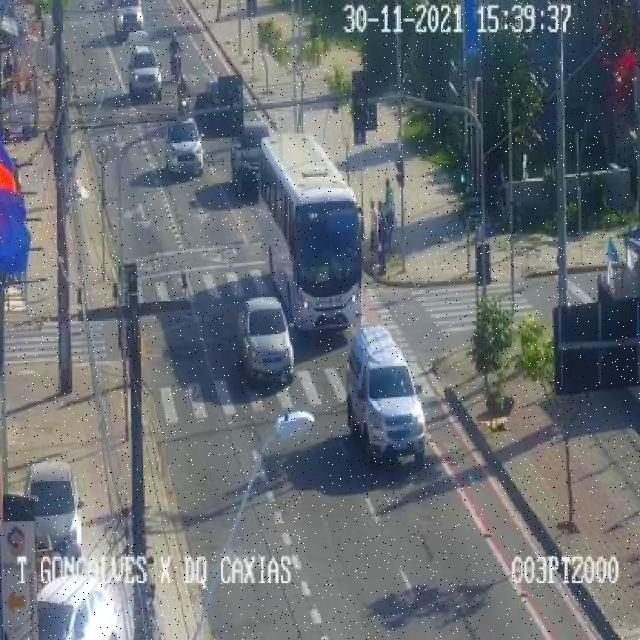Bus: (264, 127, 368, 344)
Car: (341, 327, 435, 472), (231, 296, 303, 392), (29, 561, 112, 640), (23, 456, 87, 556), (159, 114, 216, 182), (231, 126, 275, 190), (127, 44, 159, 109), (108, 0, 152, 38)
Cycle: (161, 26, 191, 94)
